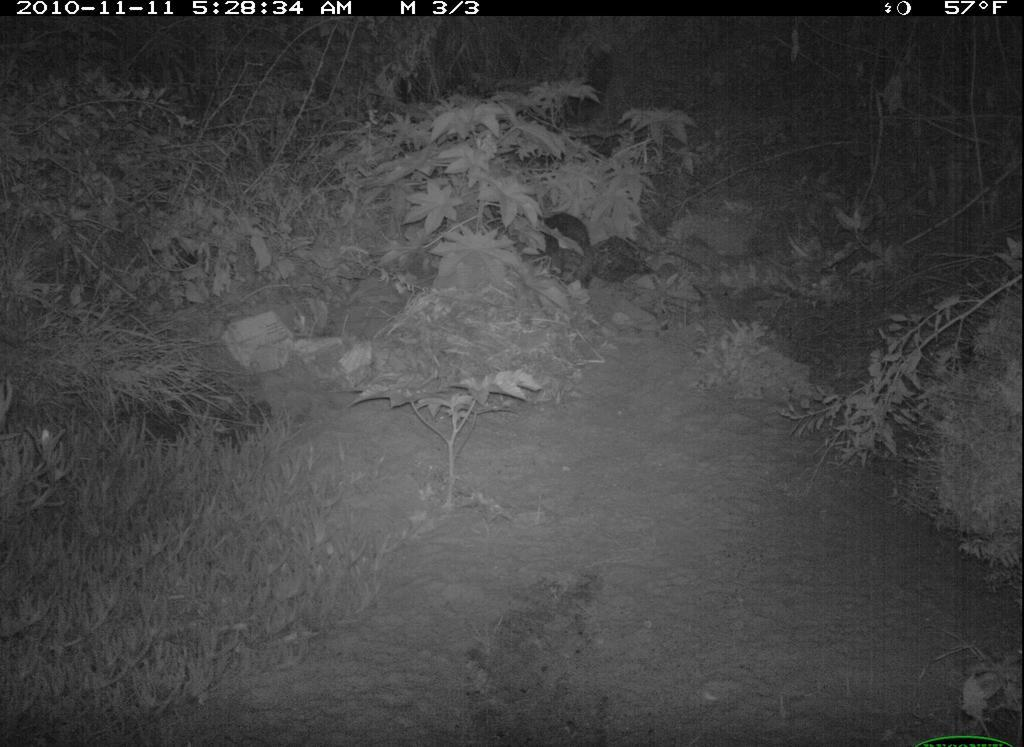raccoon: (528, 207, 600, 301)
